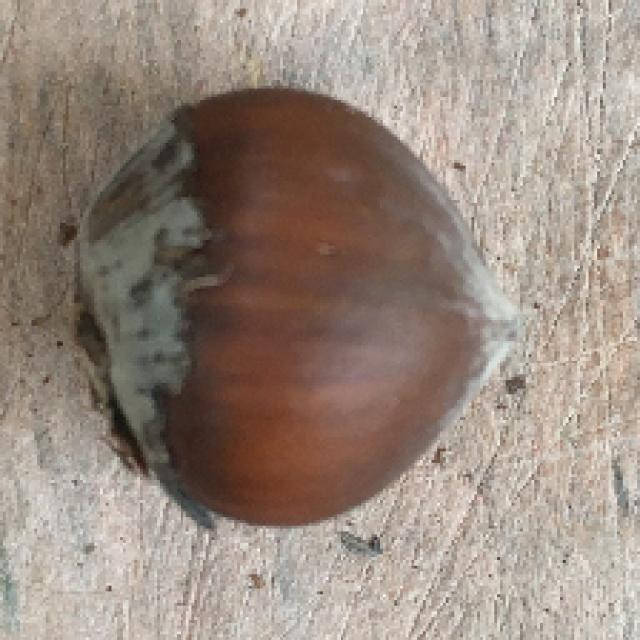damagedHazelnut: (70, 84, 530, 531)
